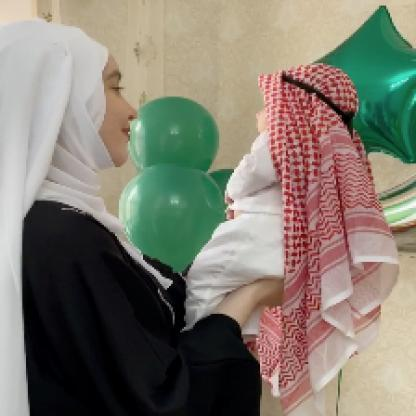child: (184, 63, 361, 344)
